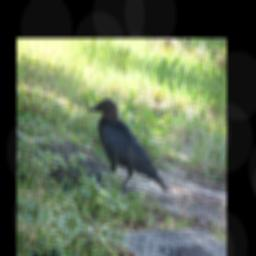Crow: (75, 92, 186, 205)
